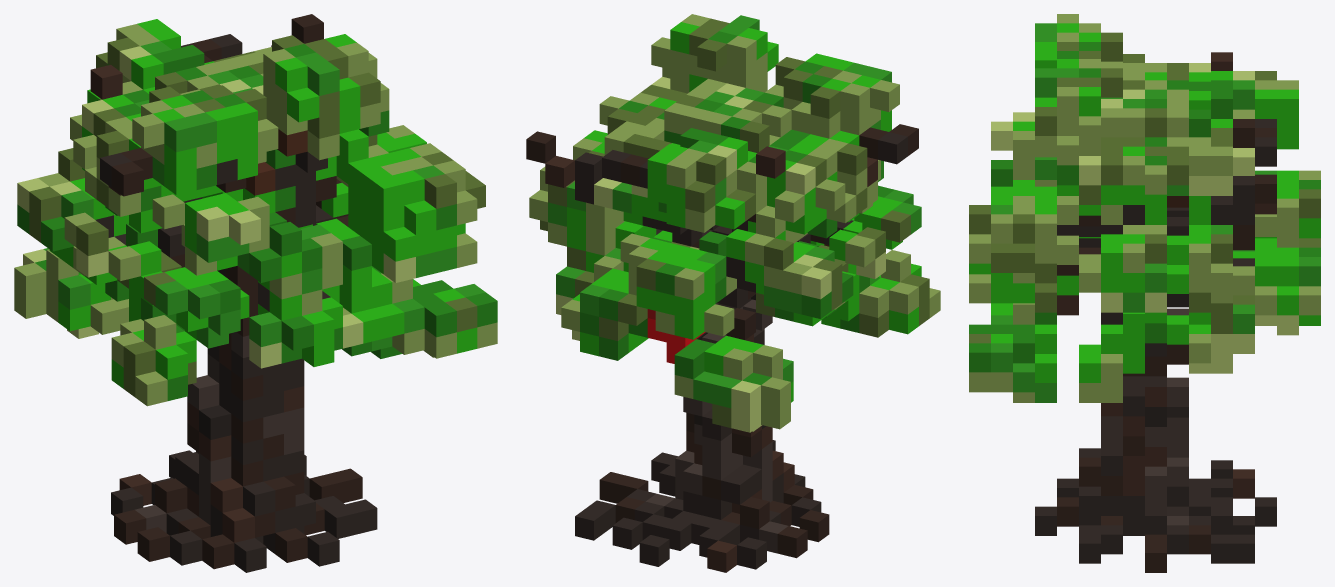
File: tree_big_lo.obj
3 renders of one model, left to right at view 1: azimuth 30°, elevation 25°; view 2: azimuth 150°, elevation 25°; view 3: azimuth 270°, elevation 25°, orthographic. The views are drawn at different scales.
Visible parts, largest first — view 1: tree_big_lo; view 2: tree_big_lo; view 3: tree_big_lo.
Part boxes in pixels (bbox=[...]): tree_big_lo: bbox=[14, 14, 497, 572]; tree_big_lo: bbox=[526, 14, 940, 572]; tree_big_lo: bbox=[969, 14, 1320, 572].
Bounding box in the file's own units: 3.2 × 4.6 × 3.2.
1 material, 1 textured.
